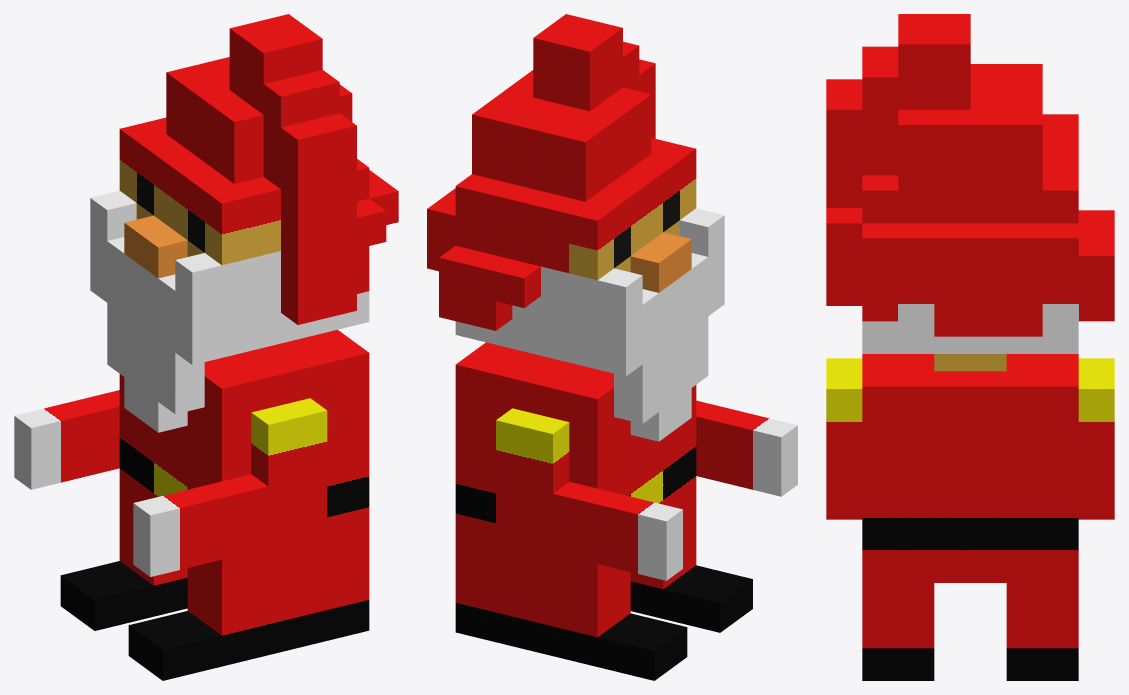
File: Human_0.fbx
3 renders of one model, left to right at view 1: azimuth 30°, elevation 25°; view 2: azimuth 150°, elevation 25°; view 3: azimuth 270°, elevation 25°, orthographic. The views are drawn at different scales.
Parts seen in each view (by area): view 1: Human_0; view 2: Human_0; view 3: Human_0.
Boxes of the visible parts, <box> form: Human_0: <box>14,14,398,680</box>; Human_0: <box>427,14,797,680</box>; Human_0: <box>826,14,1114,680</box>.
Bounding box in the file's own units: 9 × 19 × 8.
1 material, 1 textured.
